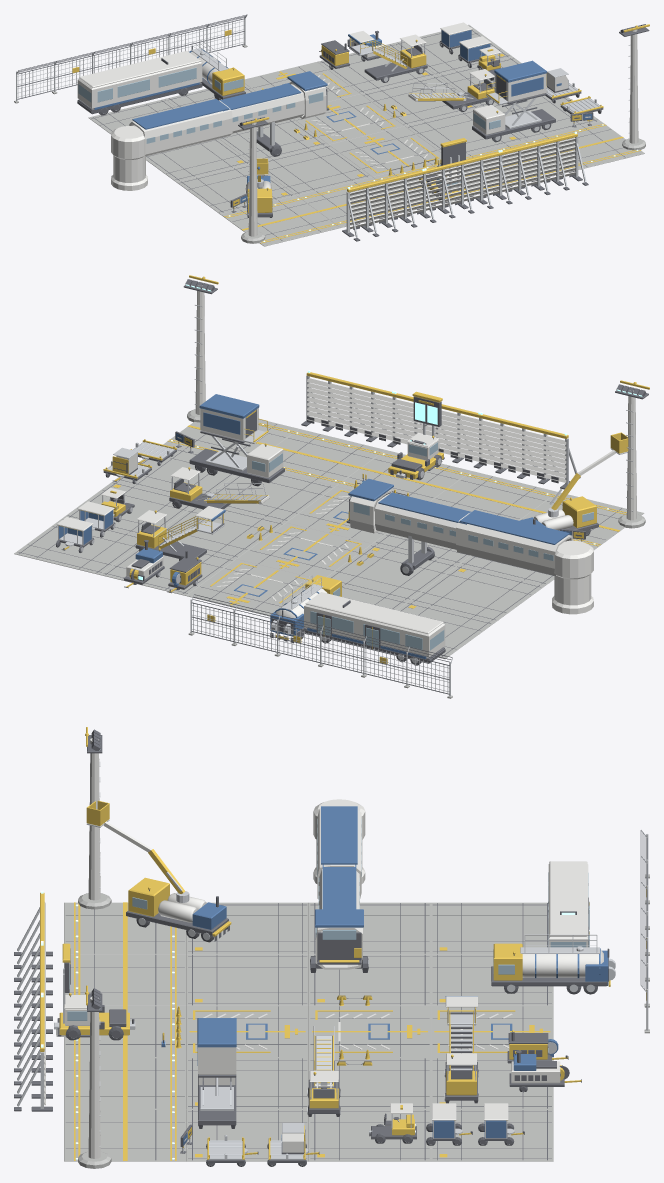
Rendered from airport-terminal-and-ground-operations-stand-turnaroun-1d24d5d4__26094.glb.
3 views of the same model, one above another, from view 1: azimuth 30°, elevation 25°; view 2: azimuth 150°, elevation 25°; view 3: azimuth 270°, elevation 25° (orthographic). The views are drawn at different scales.
Parts seen in each view (by area): view 1: 020-jet-bridge/0, 028-apron-bus/1, 005-apron-paving-tile/0, 008-stand-marking-tile/0, 007-stand-marking-tile/0, 015-taxiway-tile/0, 010-apron-paving-tile/0, 001-apron-paving-tile/0, 019-taxiway-tile/0, 002-apron-paving-tile/0, 011-apron-paving-tile/0, 016-taxiway-tile/0 (+60 smaller); view 2: 020-jet-bridge/0, 001-apron-paving-tile/0, 007-stand-marking-tile/0, 028-apron-bus/1, 006-stand-marking-tile/0, 004-apron-paving-tile/0, 045-jet-blast-fence/2, 047-jet-blast-fence/2, 018-taxiway-tile/0, 016-taxiway-tile/0, 012-apron-paving-tile/0, 010-apron-paving-tile/0 (+35 smaller); view 3: 005-apron-paving-tile/0, 000-apron-paving-tile/0, 007-stand-marking-tile/0, 018-taxiway-tile/0, 004-apron-paving-tile/0, 016-taxiway-tile/0, 013-apron-paving-tile/0, 019-taxiway-tile/0, 002-apron-paving-tile/0, 010-apron-paving-tile/0, 012-apron-paving-tile/0, 008-stand-marking-tile/0 (+42 smaller).
Boxes of the visible parts, box(x1,y1,x2,y2) form: 020-jet-bridge/0: box(111, 100, 232, 190); 028-apron-bus/1: box(77, 51, 202, 108); 005-apron-paving-tile/0: box(268, 145, 371, 195); 008-stand-marking-tile/0: box(329, 126, 441, 176); 007-stand-marking-tile/0: box(293, 94, 404, 144); 015-taxiway-tile/0: box(220, 195, 339, 246); 010-apron-paving-tile/0: box(361, 75, 480, 125); 001-apron-paving-tile/0: box(146, 138, 249, 181); 019-taxiway-tile/0: box(525, 121, 644, 172); 002-apron-paving-tile/0: box(176, 164, 295, 213); 011-apron-paving-tile/0: box(405, 109, 524, 153); 016-taxiway-tile/0: box(296, 177, 416, 227); 020-jet-bridge/0: box(456, 512, 593, 614); 001-apron-paving-tile/0: box(409, 565, 544, 622); 007-stand-marking-tile/0: box(236, 523, 371, 577); 028-apron-bus/1: box(304, 592, 445, 657); 006-stand-marking-tile/0: box(186, 559, 312, 616); 004-apron-paving-tile/0: box(327, 544, 457, 601); 045-jet-blast-fence/2: box(479, 420, 566, 482); 047-jet-blast-fence/2: box(307, 378, 393, 440); 018-taxiway-tile/0: box(276, 429, 384, 486); 016-taxiway-tile/0: box(430, 471, 557, 520); 012-apron-paving-tile/0: box(14, 517, 136, 574); 010-apron-paving-tile/0: box(165, 507, 285, 558); 005-apron-paving-tile/0: box(186, 954, 308, 1005); 000-apron-paving-tile/0: box(431, 902, 548, 954); 007-stand-marking-tile/0: box(308, 1006, 431, 1057); 018-taxiway-tile/0: box(64, 1057, 186, 1109); 004-apron-paving-tile/0: box(308, 954, 431, 1005); 016-taxiway-tile/0: box(64, 954, 186, 1005); 013-apron-paving-tile/0: box(308, 1109, 431, 1161); 019-taxiway-tile/0: box(64, 1109, 186, 1161); 002-apron-paving-tile/0: box(186, 902, 308, 954); 010-apron-paving-tile/0: box(308, 1057, 431, 1109); 012-apron-paving-tile/0: box(431, 1109, 553, 1161); 008-stand-marking-tile/0: box(186, 1006, 308, 1057).
Bounding box in the file's own units: 46.8 × 12.26 × 41.58.
